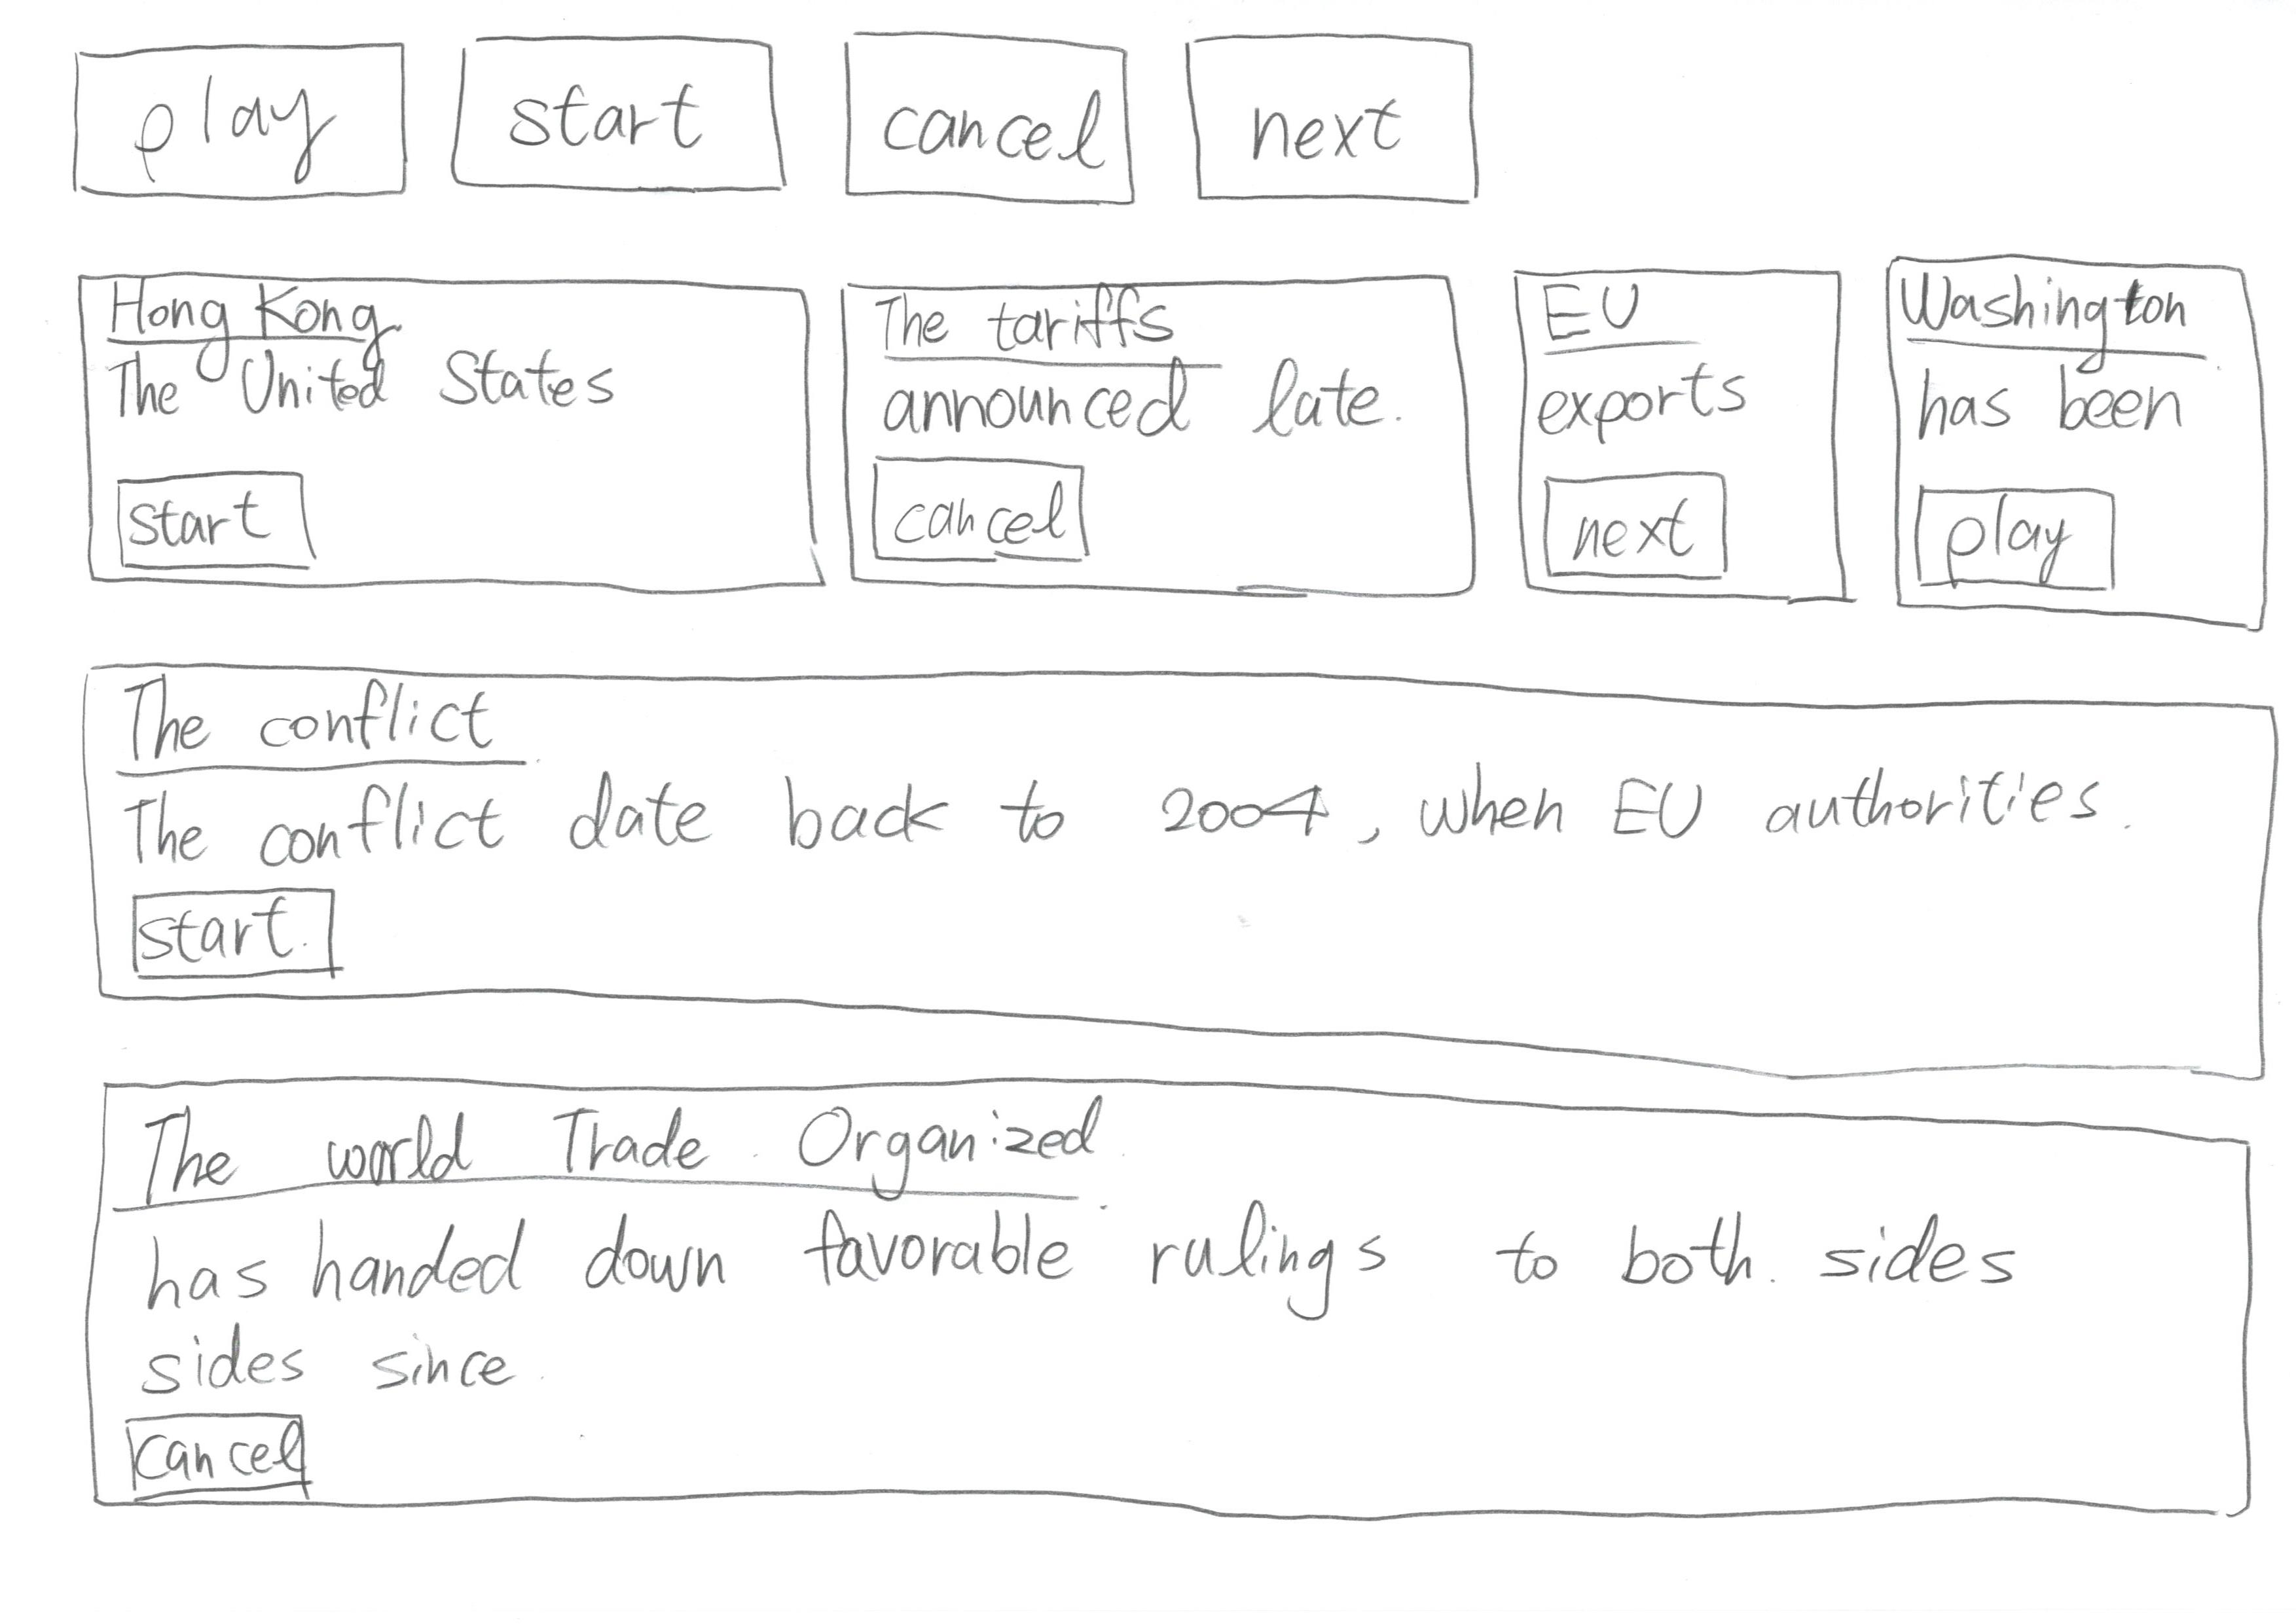cancel: (832, 16, 1159, 236), (853, 445, 1104, 569), (97, 1390, 336, 1499)
next: (1153, 9, 1529, 221), (1522, 466, 1758, 598)
play: (44, 21, 425, 218), (1886, 462, 2152, 619)
quadruple: (39, 244, 828, 633), (832, 246, 1503, 643), (1851, 234, 2296, 677), (1489, 243, 1869, 652)
row: (0, 1037, 2296, 1562), (5, 638, 2296, 1109), (5, 230, 2296, 657), (5, 4, 2296, 262)
single: (35, 1053, 2296, 1550), (12, 634, 2296, 1107)
small-title: (127, 1090, 1127, 1195), (116, 675, 473, 777), (1900, 276, 2220, 360), (90, 271, 389, 359), (876, 290, 1197, 353), (1515, 276, 1682, 357)
start: (438, 11, 803, 227), (104, 872, 374, 993), (95, 462, 322, 580)
text: (128, 1199, 2064, 1392), (134, 765, 2157, 858), (123, 346, 647, 441), (872, 369, 1378, 462), (1893, 367, 2210, 485), (1528, 369, 1762, 457)
